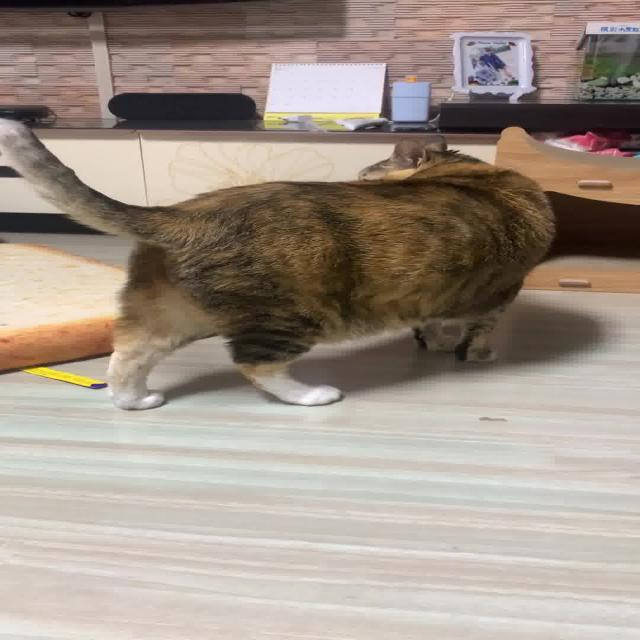cat: (0, 113, 568, 414)
